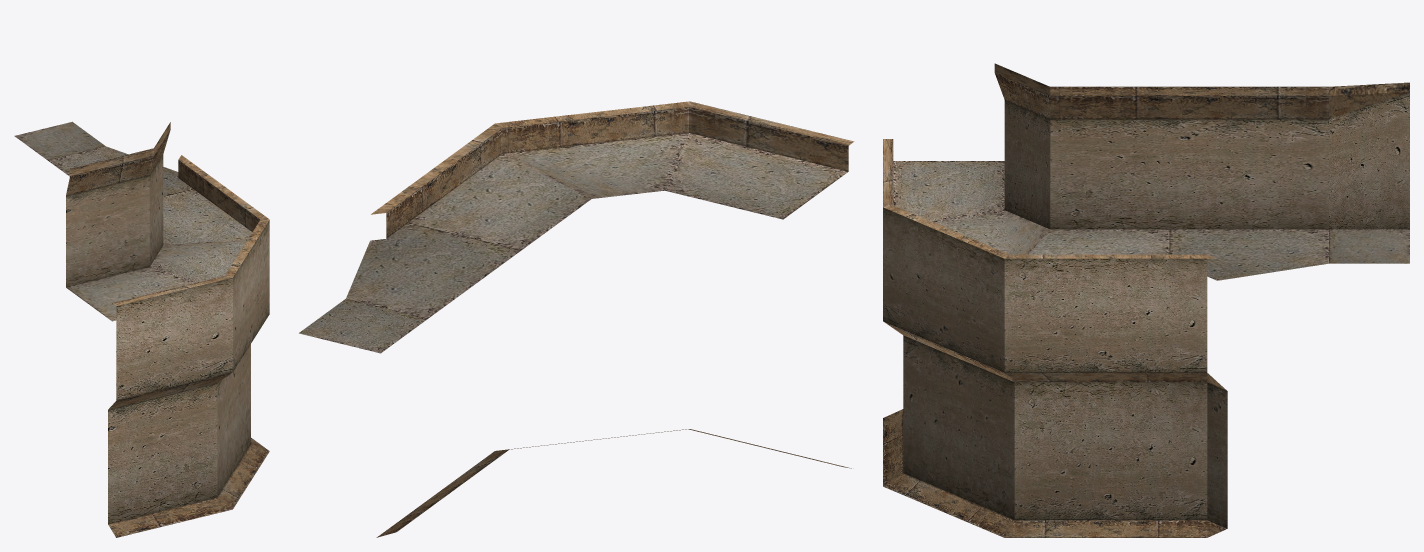
Rendered from M11_CompWallOuter_E2.glb.
The picture shows the model from 3 angles, left to right: view 1: azimuth 30°, elevation 25°; view 2: azimuth 150°, elevation 25°; view 3: azimuth 270°, elevation 25°; orthographic projection. The views are drawn at different scales.
Visible parts, largest first — view 1: M11_COMPWALLOUTER_E2; view 2: M11_COMPWALLOUTER_E2; view 3: M11_COMPWALLOUTER_E2.
Part boxes in pixels (left/top/right/bottom): M11_COMPWALLOUTER_E2: left=14, top=121, right=269, bottom=537; M11_COMPWALLOUTER_E2: left=299, top=101, right=854, bottom=537; M11_COMPWALLOUTER_E2: left=883, top=63, right=1409, bottom=537.
Size of the model in its own units: 7 by 11 by 13.
3 materials, 3 textured.
